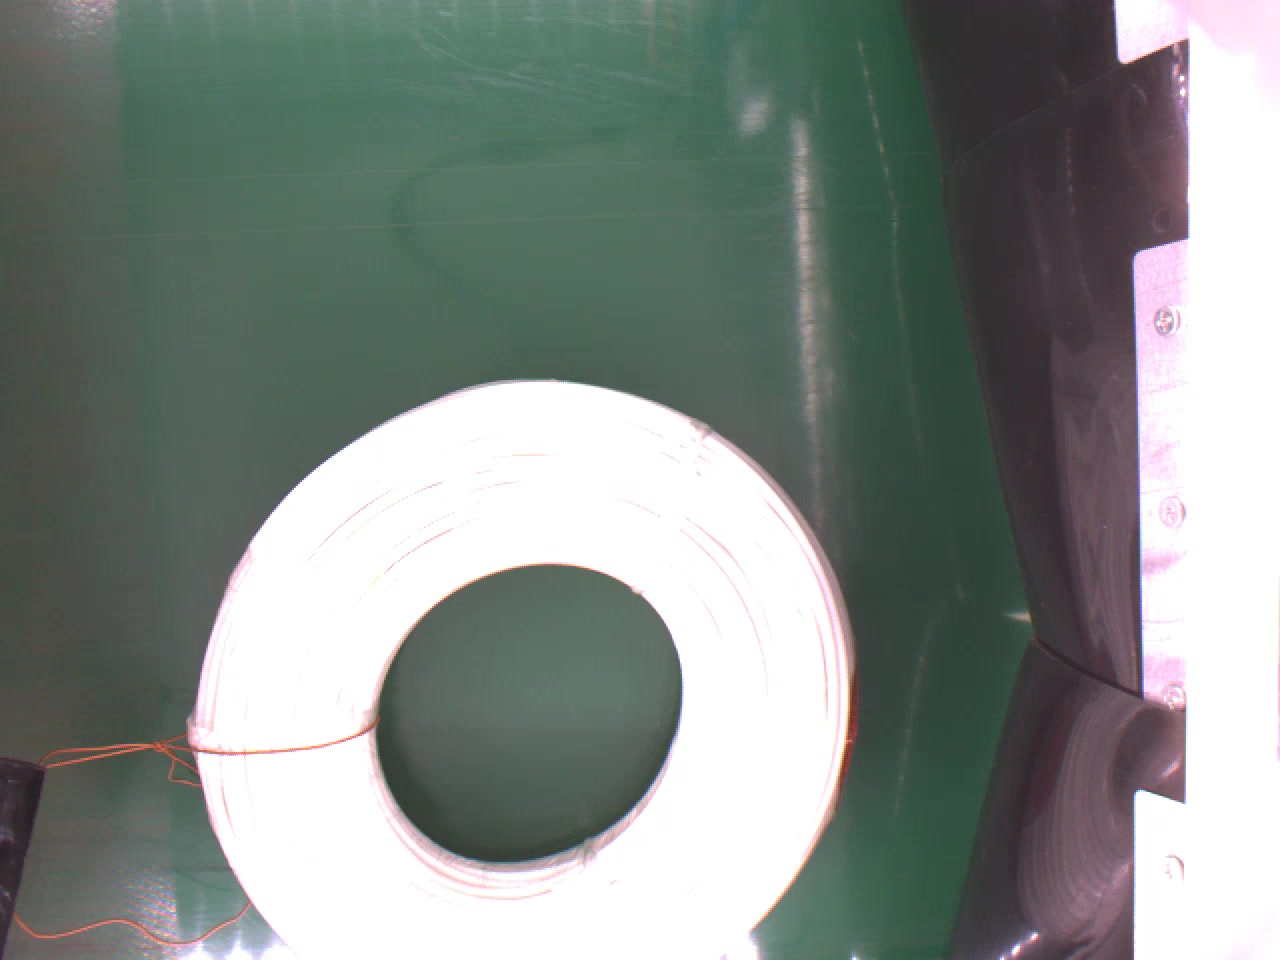white: (190, 374, 865, 960)
